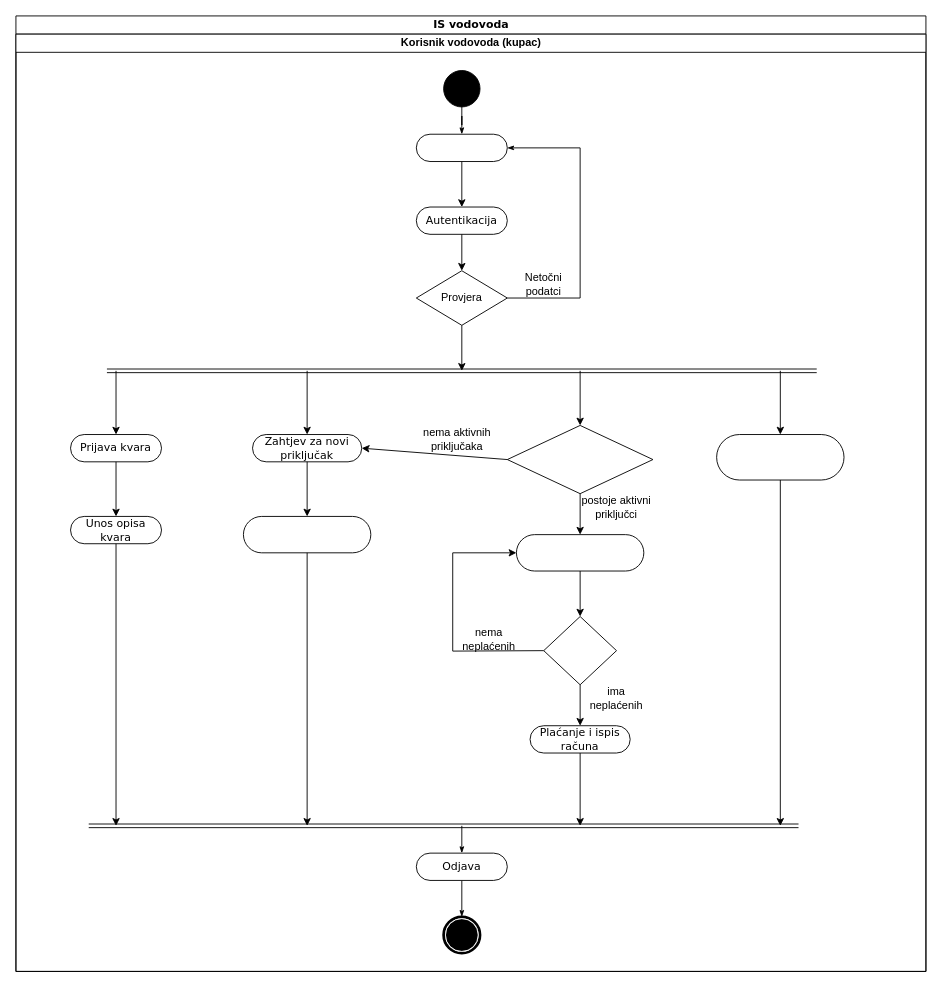
This 942x987 diagram has some shape labels left out. The centre of each missing label's shape, as x and y in pixels:
"pregled potrošnje i računa" belongs at (x=580, y=552).
"Prijava" belongs at (x=461, y=147).
"Uređivanje osobnih podataka" belongs at (x=780, y=457).
"Učitavanje potrebnih dokumenta" belongs at (x=307, y=534).
